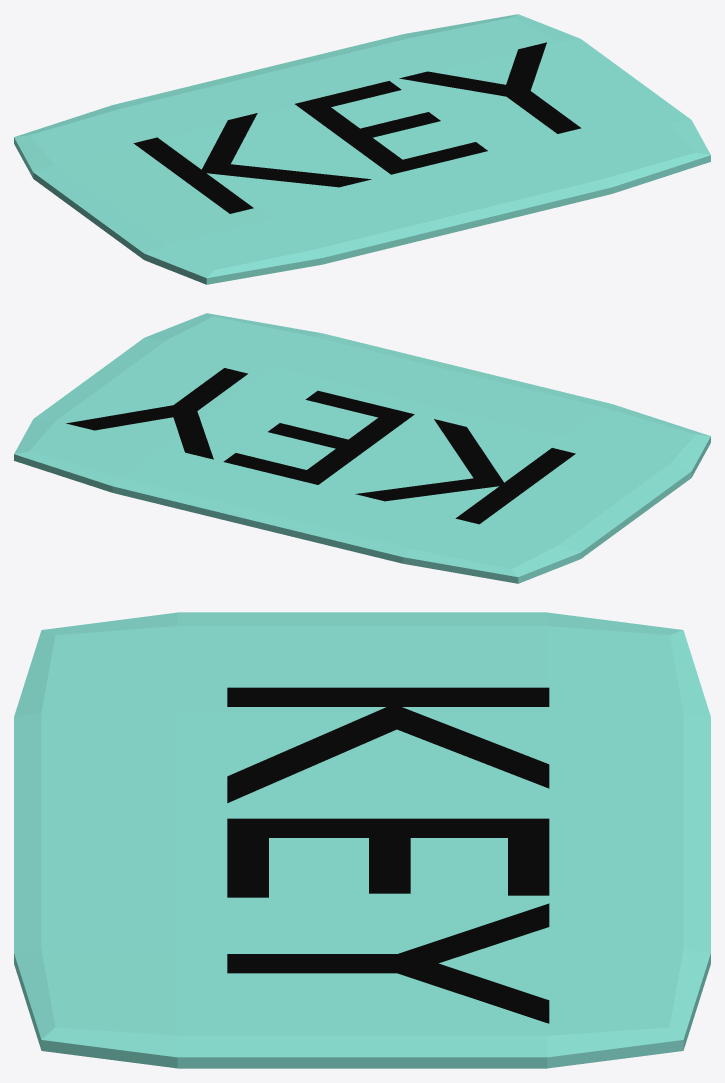
Rendered from карта ключчч.fbx.
3 views of the same model, one above another, from view 1: azimuth 30°, elevation 25°; view 2: azimuth 150°, elevation 25°; view 3: azimuth 270°, elevation 25° (orthographic). The views are drawn at different scales.
Visible parts, largest first — view 1: Cube, Text; view 2: Cube, Text; view 3: Cube, Text.
Part boxes in pixels (left/top/right/bottom): Cube: left=14, top=14, right=710, bottom=284; Text: left=133, top=42, right=581, bottom=213; Cube: left=14, top=313, right=710, bottom=583; Text: left=66, top=368, right=575, bottom=524; Cube: left=14, top=612, right=710, bottom=1068; Text: left=227, top=687, right=549, bottom=1023.
Size of the model in its own units: 89.77 by 2.13 by 59.43.
